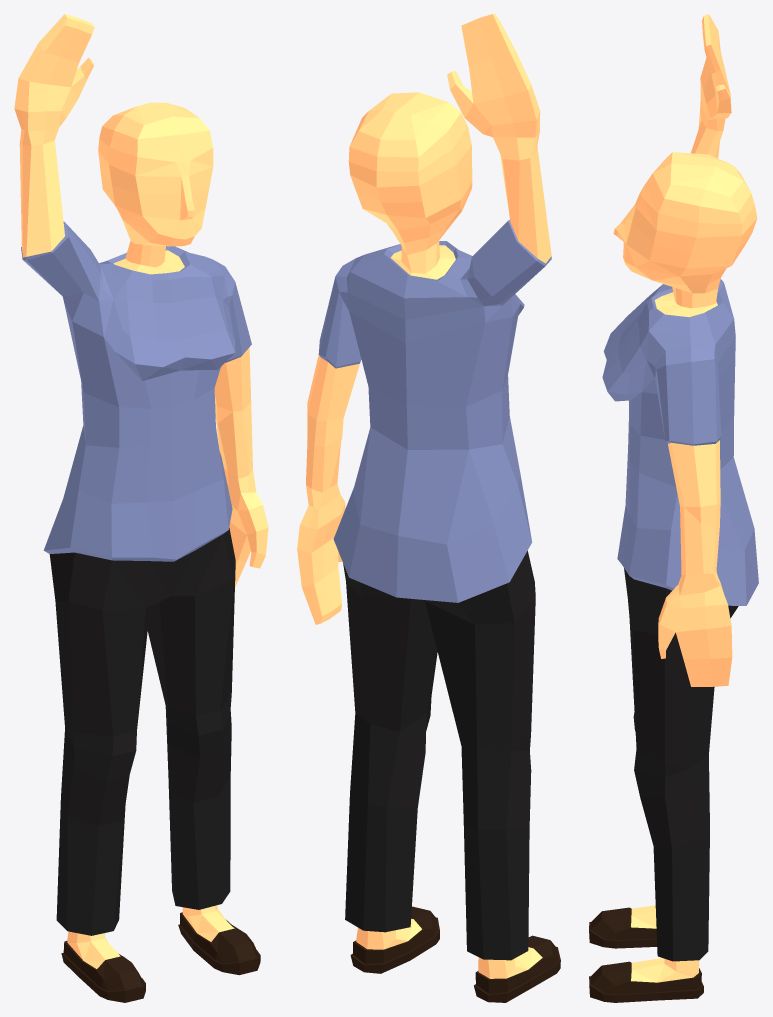
The model's file is woman_standing_waving.glb.
3 views of the same model, side by side, from view 1: azimuth 30°, elevation 25°; view 2: azimuth 150°, elevation 25°; view 3: azimuth 270°, elevation 25° (orthographic). The views are drawn at different scales.
Parts seen in each view (by area): view 1: Woman_Standing_Waving; view 2: Woman_Standing_Waving; view 3: Woman_Standing_Waving.
Boxes of the visible parts, x1,y1,x2,y2 form: Woman_Standing_Waving: (14, 14, 268, 1002); Woman_Standing_Waving: (297, 14, 560, 1002); Woman_Standing_Waving: (589, 14, 758, 1002).
Bounding box in the file's own units: 0.467 × 1.85 × 0.3094.
